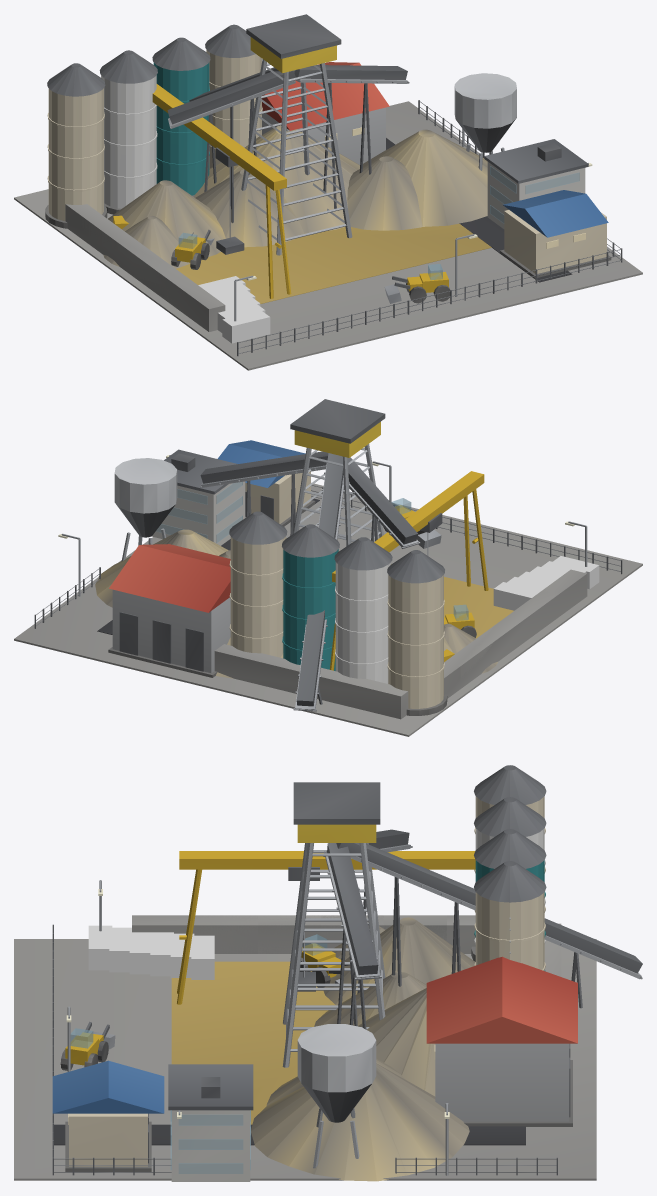
Rendered from Depot_P3.fbx.
The picture shows the model from 3 angles, top to bottom: view 1: azimuth 30°, elevation 25°; view 2: azimuth 150°, elevation 25°; view 3: azimuth 270°, elevation 25°; orthographic projection. The views are drawn at different scales.
Visible parts, largest first — view 1: Depot.Yard, Depot.Tower, Depot.Silo0, Depot.Silo1, Depot.Shed2, Depot.Pile2, Depot.Silo2, Depot.Walls, Depot.Shed1, Depot.Office, Depot.Pile1, Depot.Pile4 (+13 smaller); view 2: Depot.Yard, Depot.Shed1, Depot.Walls, Depot.Silo0, Depot.Silo1, Depot.Silo3, Depot.Tower, Depot.Silo2, Depot.Office, Depot.Hopper, Depot.ConvMain, Depot.Shed2 (+9 smaller); view 3: Depot.Yard, Depot.Shed1, Depot.Pile2, Depot.Tower, Depot.Shed2, Depot.Office, Depot.Walls, Depot.Hopper, Depot.Silo3, Depot.ConvMain, Depot.Gantry, Depot.Containers (+11 smaller).
Part boxes in pixels (x1,y1,x2,y2): Depot.Yard: [14, 101, 642, 370]; Depot.Tower: [241, 14, 352, 255]; Depot.Silo0: [45, 63, 107, 228]; Depot.Silo1: [99, 50, 157, 214]; Depot.Shed2: [500, 190, 611, 278]; Depot.Pile2: [363, 129, 487, 226]; Depot.Silo2: [152, 37, 210, 197]; Depot.Walls: [65, 204, 225, 331]; Depot.Shed1: [262, 62, 389, 164]; Depot.Office: [484, 139, 588, 228]; Depot.Pile1: [194, 125, 359, 233]; Depot.Pile4: [347, 156, 422, 230]; Depot.Yard: [14, 483, 642, 736]; Depot.Shed1: [108, 544, 230, 677]; Depot.Walls: [214, 569, 587, 719]; Depot.Silo0: [387, 550, 447, 715]; Depot.Silo1: [334, 537, 392, 683]; Depot.Silo3: [229, 511, 287, 657]; Depot.Tower: [290, 399, 385, 546]; Depot.Silo2: [282, 524, 339, 670]; Depot.Office: [151, 449, 245, 545]; Depot.Hopper: [114, 458, 177, 561]; Depot.ConvMain: [293, 453, 344, 711]; Depot.Shed2: [217, 440, 315, 526]; Depot.Yard: [14, 939, 596, 1180]; Depot.Shed1: [426, 956, 577, 1126]; Depot.Pile2: [251, 1063, 469, 1181]; Depot.Tower: [282, 782, 385, 1067]; Depot.Shed2: [52, 1060, 164, 1171]; Depot.Office: [168, 1064, 253, 1181]; Depot.Walls: [132, 915, 561, 976]; Depot.Hopper: [297, 1024, 376, 1168]; Depot.Silo3: [474, 861, 546, 970]; Depot.ConvMain: [336, 843, 642, 1008]; Depot.Gantry: [177, 851, 475, 1004]; Depot.Containers: [88, 925, 214, 979].
Bounding box in the file's own units: 7469 × 3465 × 7987.
